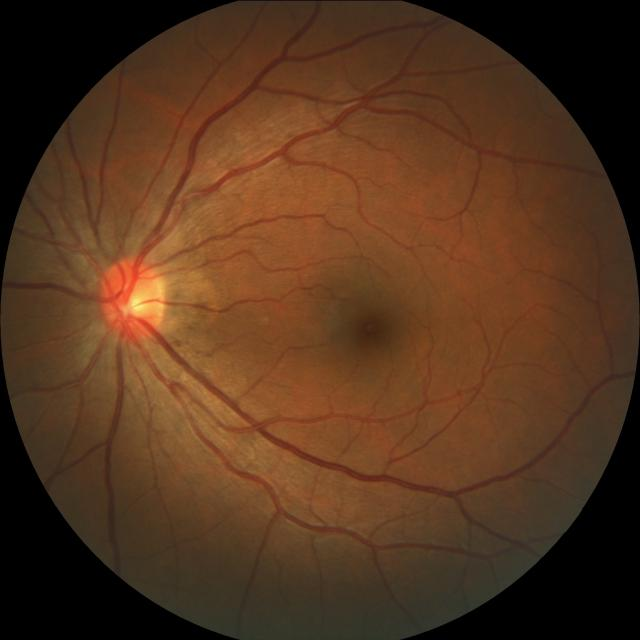OC: (119, 292, 146, 319)
OD: (97, 254, 167, 338)
